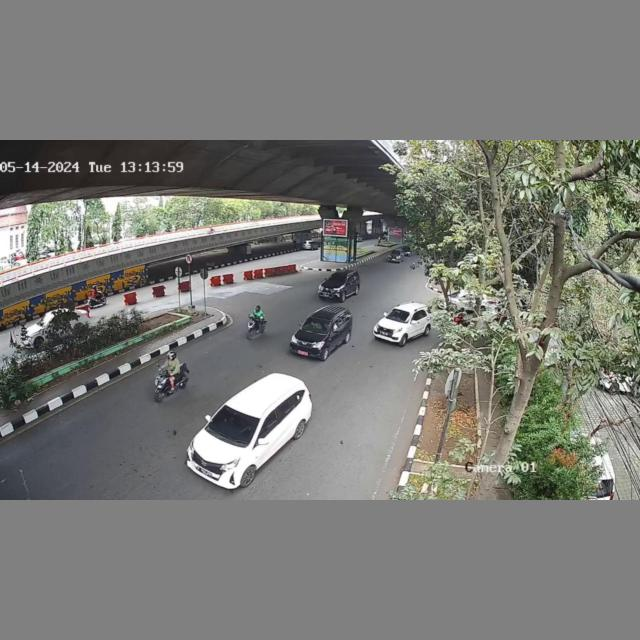windshield: (205, 402, 261, 446), (303, 316, 331, 334)
